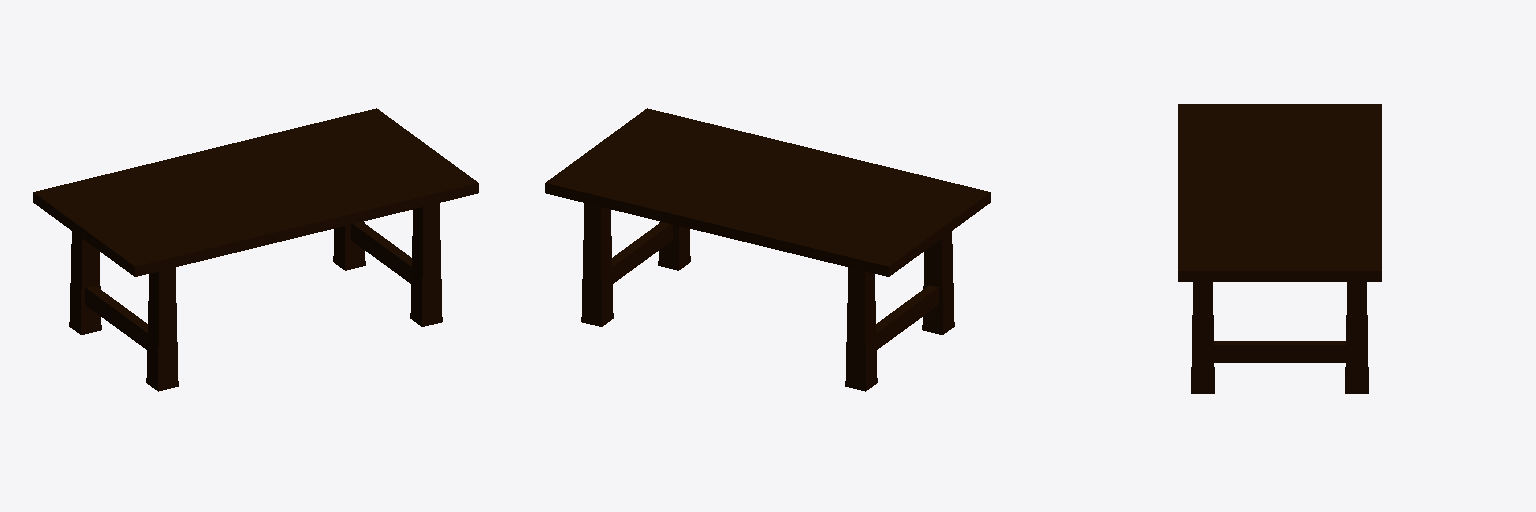
Rendered from Table_01.obj.
3 views of the same model, side by side, from view 1: azimuth 30°, elevation 25°; view 2: azimuth 150°, elevation 25°; view 3: azimuth 270°, elevation 25° (orthographic).
Visible parts, largest first — view 1: Table_01_Cube; view 2: Table_01_Cube; view 3: Table_01_Cube.
Part boxes in pixels (left/top/right/bottom): Table_01_Cube: left=33, top=108, right=478, bottom=391; Table_01_Cube: left=545, top=108, right=990, bottom=391; Table_01_Cube: left=1178, top=104, right=1381, bottom=393.
Size of the model in its own units: 3.05 by 1.16 by 1.56.